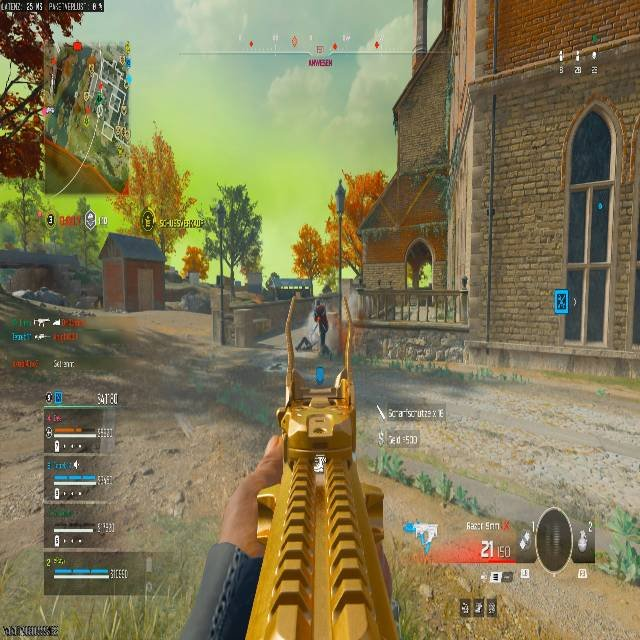head: (299, 225, 316, 244)
player: (291, 225, 319, 279), (182, 246, 207, 283), (312, 301, 328, 337)
